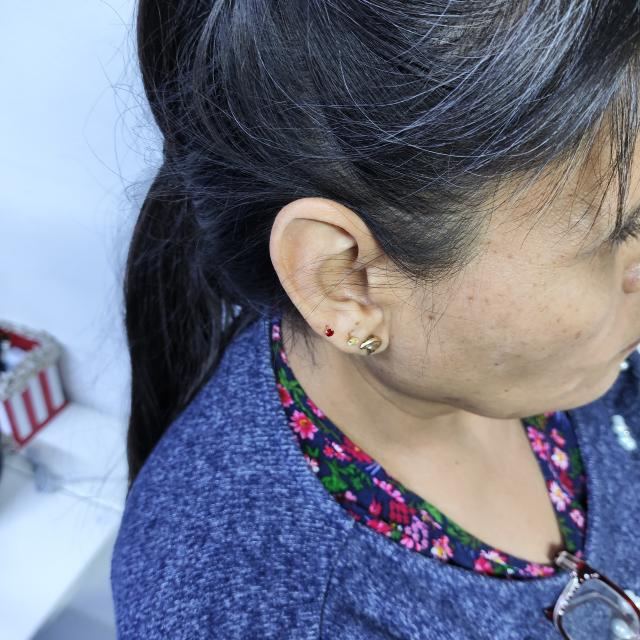ear: (270, 198, 422, 354)
